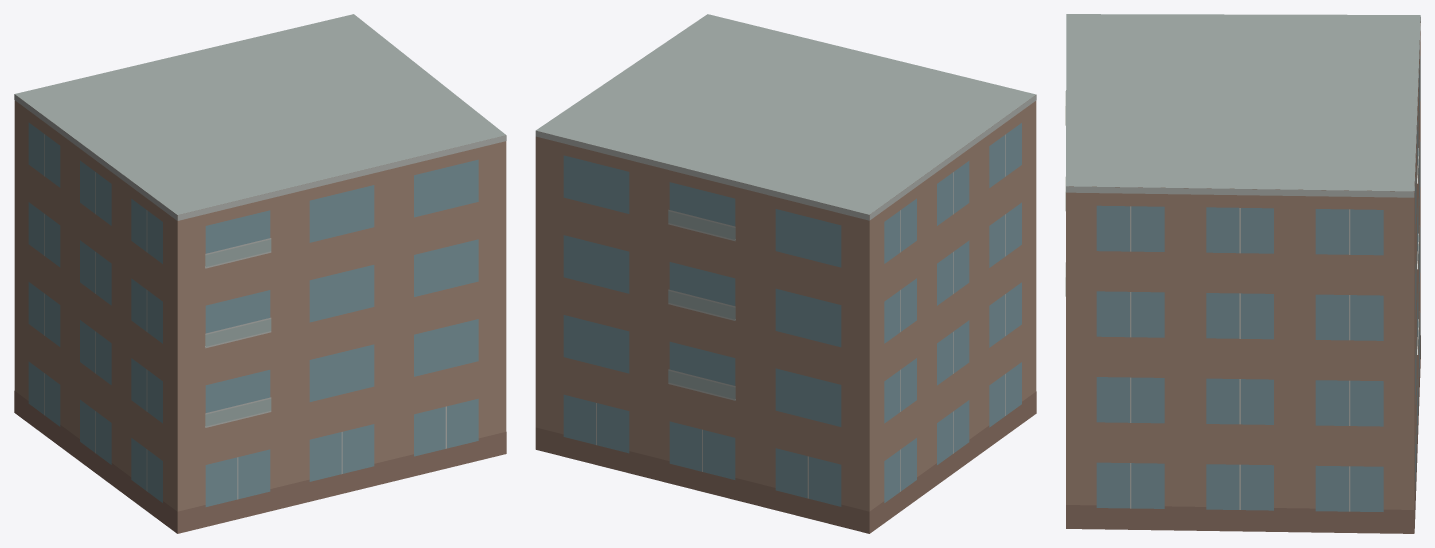
Rendered from survey-upis-32811698.glb.
3 renders of one model, left to right at view 1: azimuth 30°, elevation 25°; view 2: azimuth 150°, elevation 25°; view 3: azimuth 270°, elevation 25°, orthographic. The views are drawn at different scales.
Visible parts, largest first — view 1: survey-upis-32811698.tmp; view 2: survey-upis-32811698.tmp; view 3: survey-upis-32811698.tmp.
Boxes of the visible parts, left/top/right/bottom form: survey-upis-32811698.tmp: left=14, top=14, right=506, bottom=533; survey-upis-32811698.tmp: left=535, top=14, right=1036, bottom=533; survey-upis-32811698.tmp: left=1065, top=14, right=1420, bottom=533.
Size of the model in its own units: 14.67 by 13.2 by 12.43.
